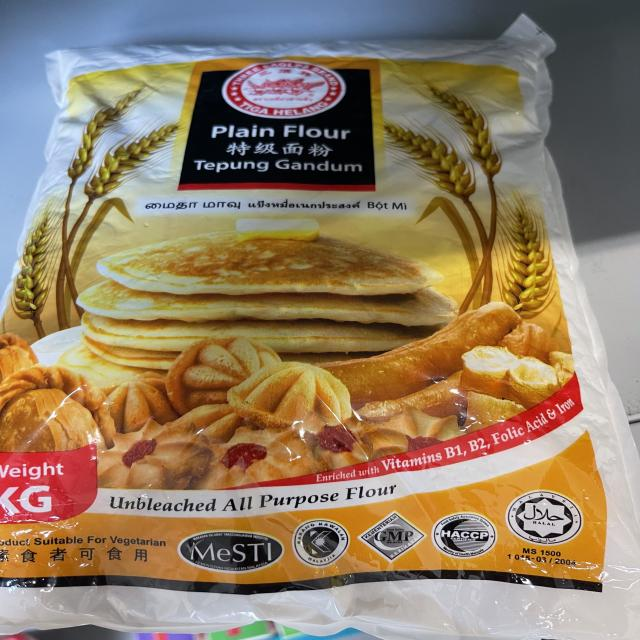object_name: (38, 45, 615, 635)
